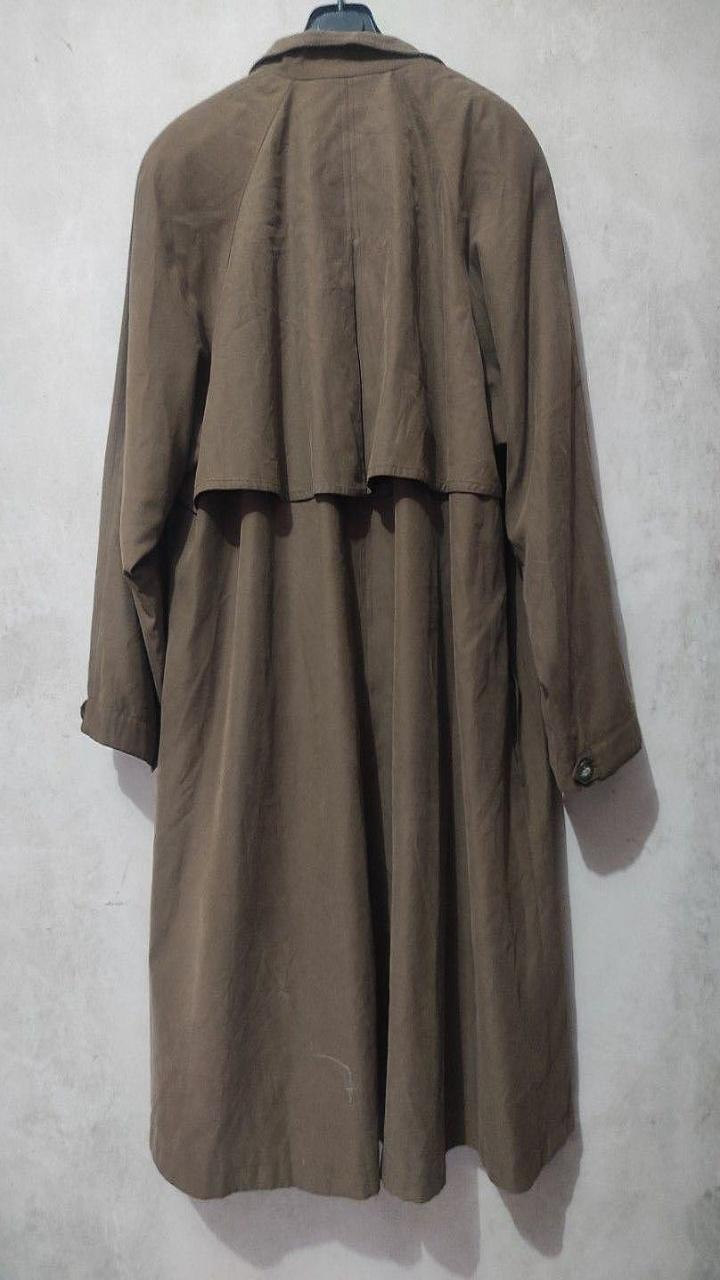Coat: (81, 30, 640, 1201)
